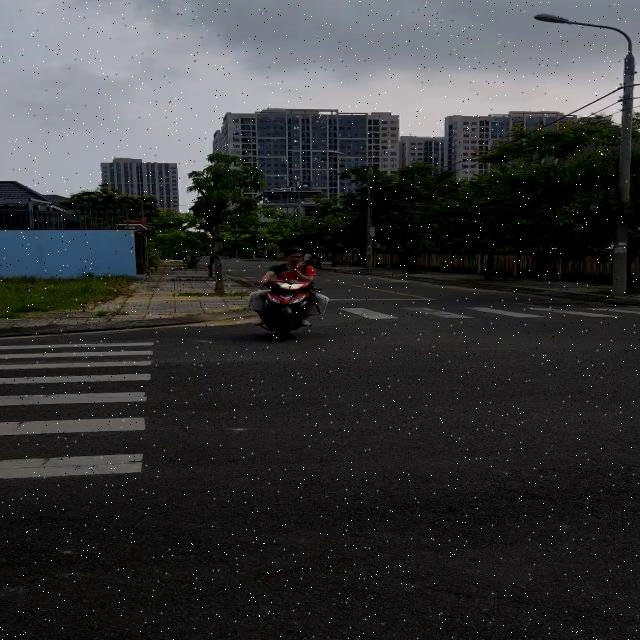no_helmet: (282, 247, 308, 270)
